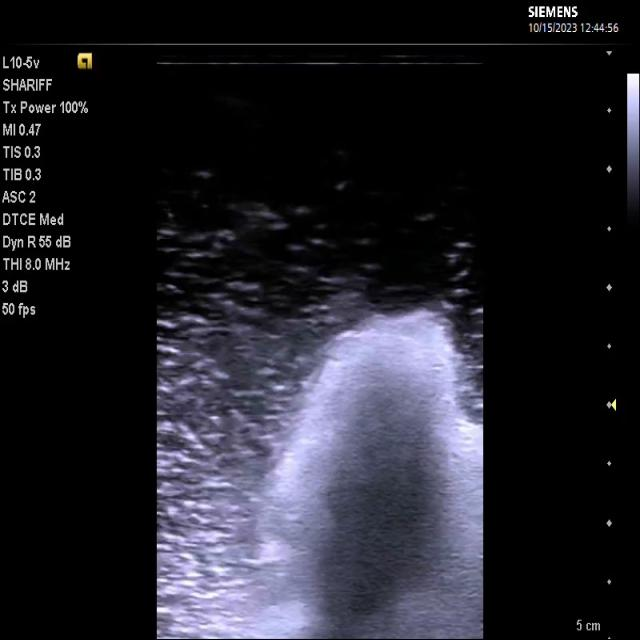tissue: (254, 309, 482, 640)
